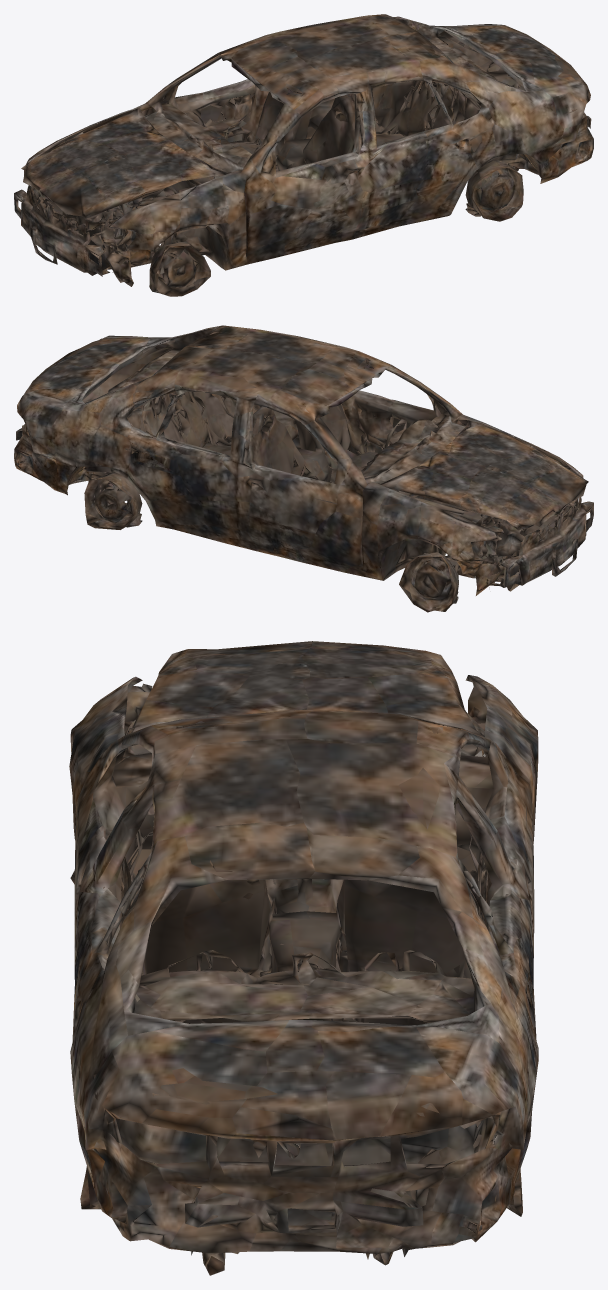
Rendered from burned_car.glb.
3 renders of one model, top to bottom at view 1: azimuth 30°, elevation 25°; view 2: azimuth 150°, elevation 25°; view 3: azimuth 270°, elevation 25°, orthographic. The views are drawn at different scales.
Bounding box in the file's own units: 1.9 × 0.5588 × 0.7402.
1 material, 1 textured.
